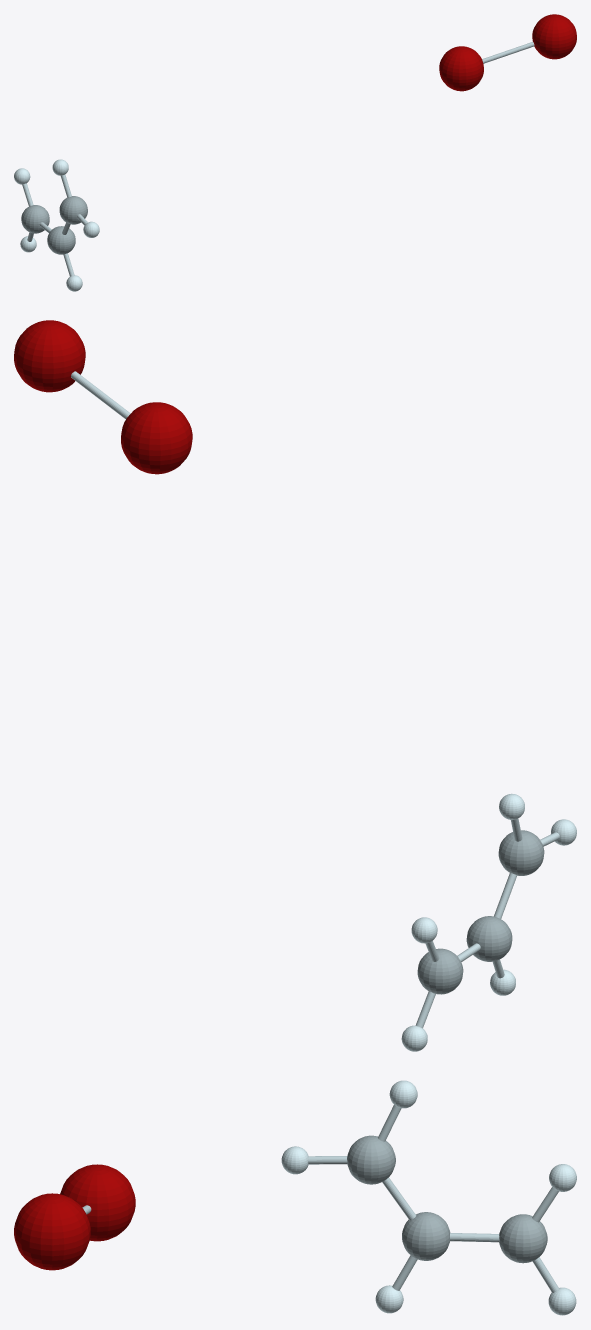
Rendered from irc_step_081.glb.
3 renders of one model, top to bottom at view 1: azimuth 30°, elevation 25°; view 2: azimuth 150°, elevation 25°; view 3: azimuth 270°, elevation 25°, orthographic. The views are drawn at different scales.
Visible parts, largest first — view 1: Renderer Node; view 2: Renderer Node; view 3: Renderer Node.
Part boxes in pixels (x1,y1,x2,y2): Renderer Node: (14, 14, 576, 291); Renderer Node: (14, 320, 576, 1051); Renderer Node: (14, 1080, 576, 1315).
Bounding box in the file's own units: 11.82 × 6.83 × 8.04.
